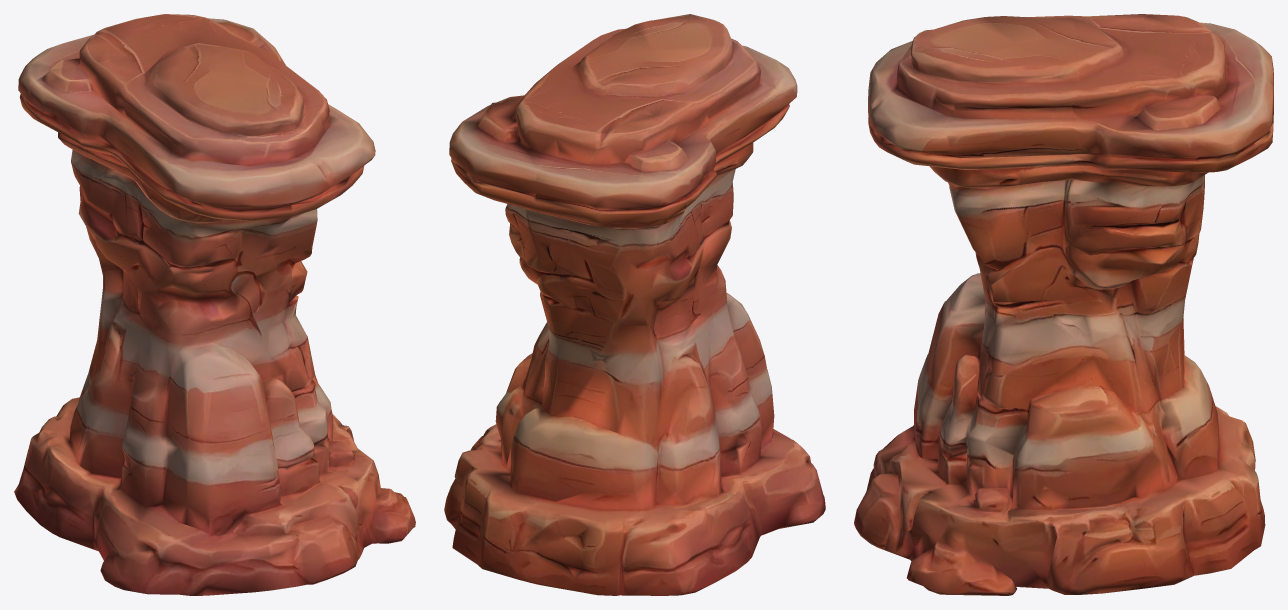
The model's file is canyon-rock-lod-kkBs6hRc.glb.
3 renders of one model, left to right at view 1: azimuth 30°, elevation 25°; view 2: azimuth 150°, elevation 25°; view 3: azimuth 270°, elevation 25°, orthographic. The views are drawn at different scales.
Visible parts, largest first — view 1: tripo_node_f68b6e90-41ef-4103-87e8-fa0d5483aa34; view 2: tripo_node_f68b6e90-41ef-4103-87e8-fa0d5483aa34; view 3: tripo_node_f68b6e90-41ef-4103-87e8-fa0d5483aa34.
Part boxes in pixels (<box>): tripo_node_f68b6e90-41ef-4103-87e8-fa0d5483aa34: <box>14,14,415,595</box>; tripo_node_f68b6e90-41ef-4103-87e8-fa0d5483aa34: <box>444,14,825,595</box>; tripo_node_f68b6e90-41ef-4103-87e8-fa0d5483aa34: <box>854,14,1273,595</box>.
Size of the model in its own units: 0.6935 by 0.9995 by 0.7938.
1 material, 1 textured.
